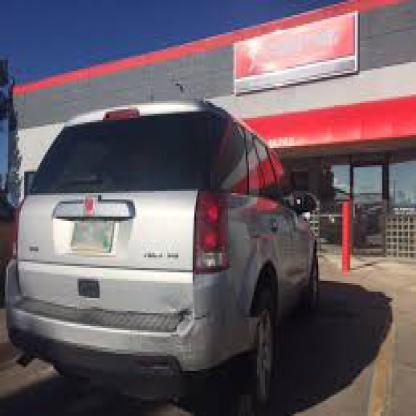dent: (164, 290, 188, 320), (285, 262, 308, 290)
